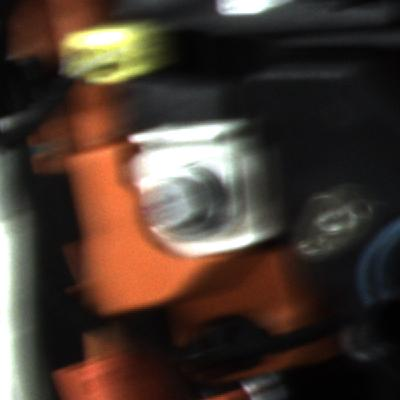nut_b: (132, 166, 241, 243)
